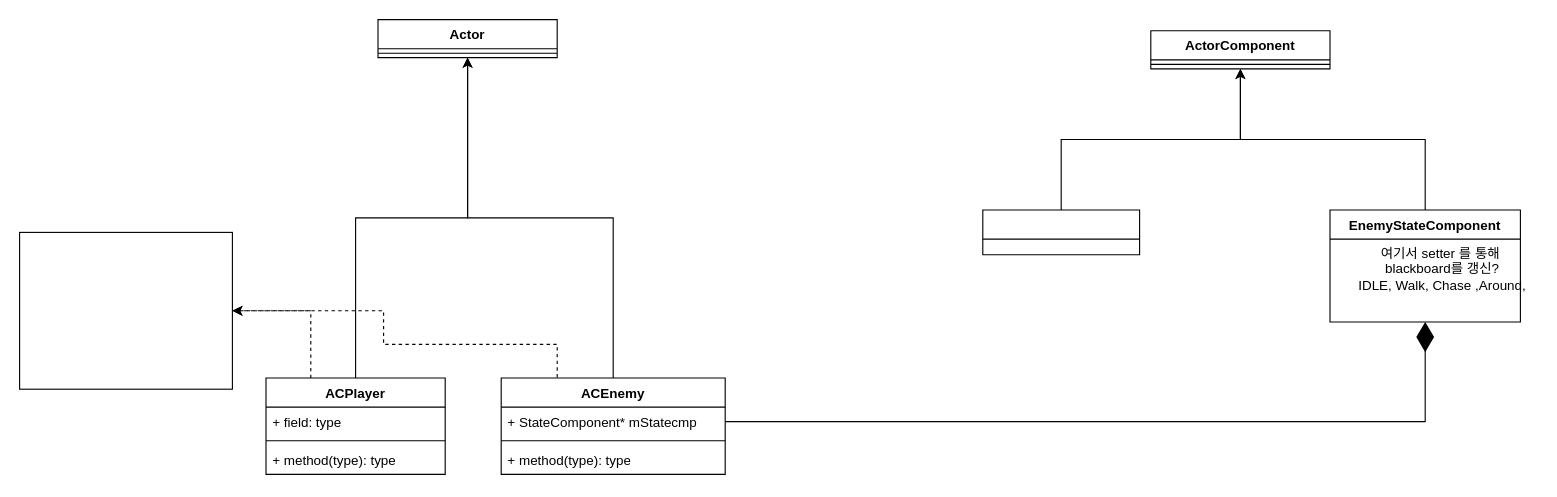
Image size: 1557x497. Some labels were removed from this diagram. The shapes that lost their labels are listed below. From the top down, each one's centre as x and y in pixels, then its label:
the point at 1061,232: StateComponent
the point at 125,310: <<Interface>> ICombat + method1(Type): Type + method2(Type, Type): Type
